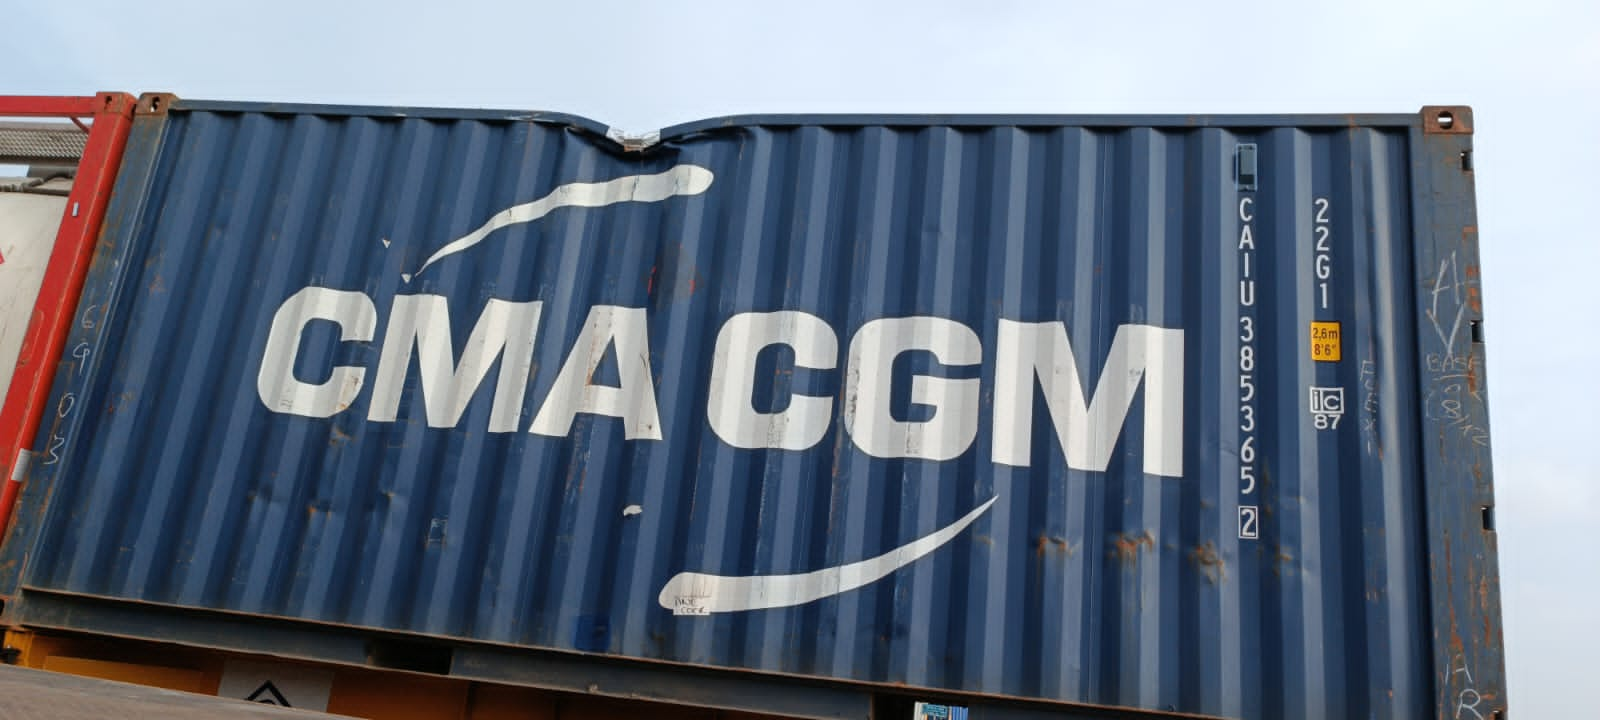moderate: (518, 120, 774, 220), (1012, 507, 1269, 599), (233, 469, 458, 555)
